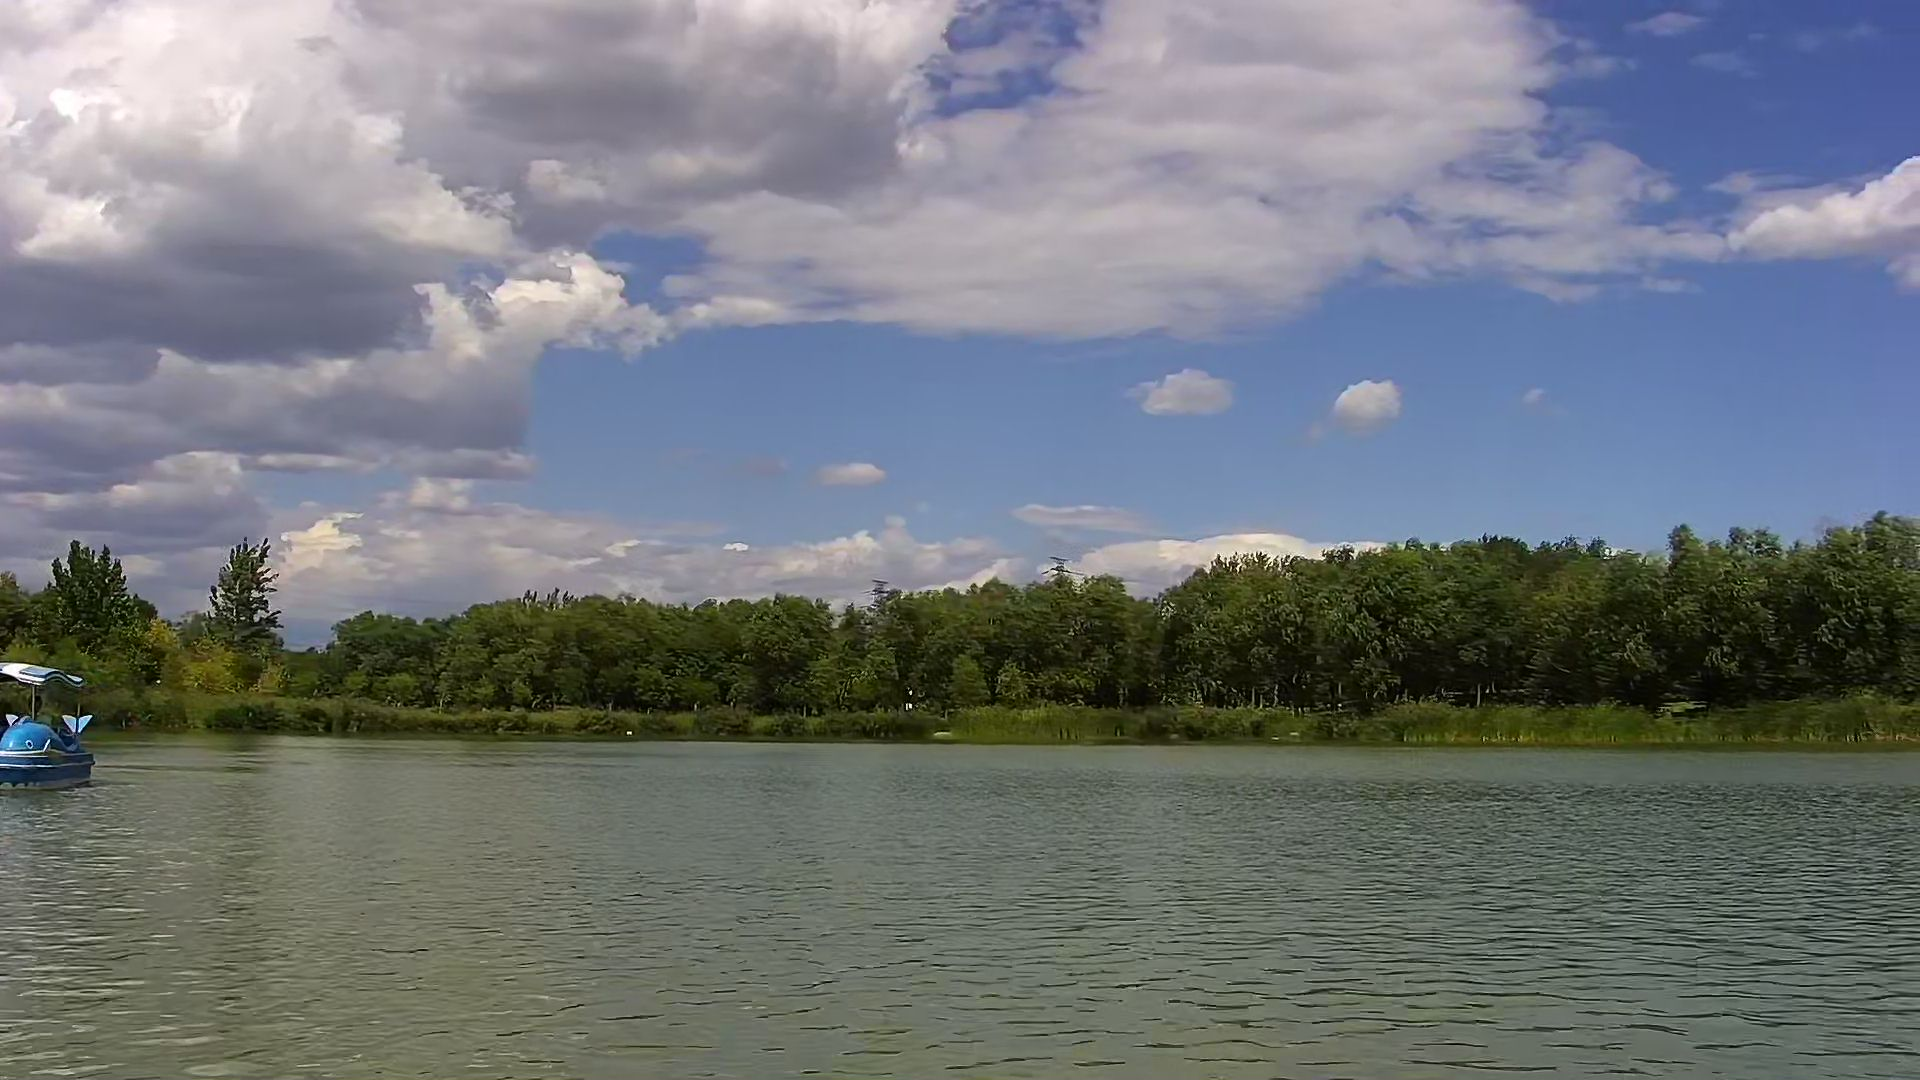boat: (1, 655, 94, 790)
